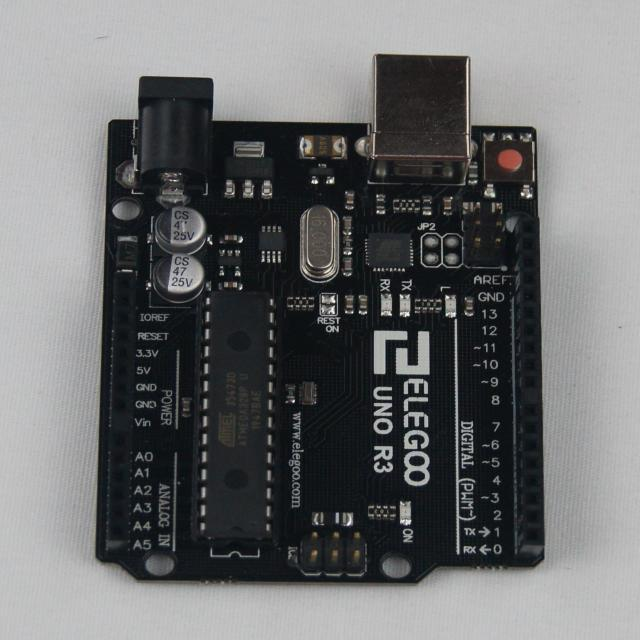Arduino Uno -Black-: (97, 56, 544, 583)
